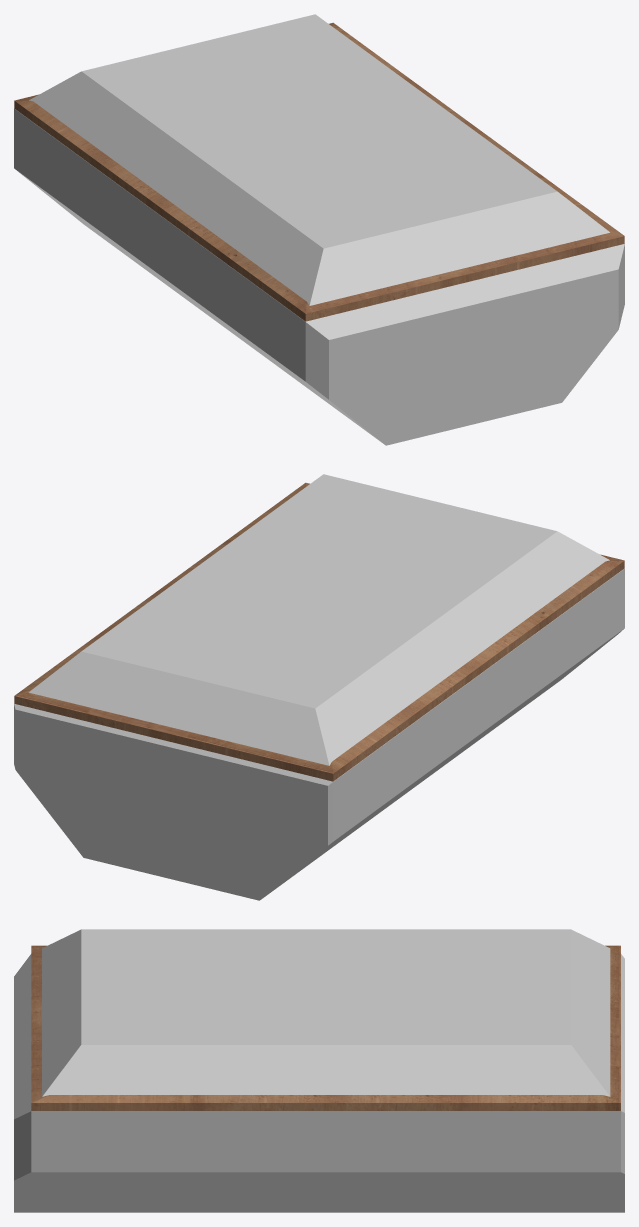
File: SM_HBJ_HG_RoofB.fbx
3 views of the same model, one above another, from view 1: azimuth 30°, elevation 25°; view 2: azimuth 150°, elevation 25°; view 3: azimuth 270°, elevation 25° (orthographic).
Visible parts, largest first — view 1: SM_HBJ_HG_RoofB_ConvexHulls, SM_HBJ_HG_RoofB; view 2: SM_HBJ_HG_RoofB_ConvexHulls, SM_HBJ_HG_RoofB; view 3: SM_HBJ_HG_RoofB_ConvexHulls, SM_HBJ_HG_RoofB.
Boxes of the visible parts, x1,y1,x2,y2 form: SM_HBJ_HG_RoofB_ConvexHulls: (14, 14, 624, 445); SM_HBJ_HG_RoofB: (14, 22, 624, 321); SM_HBJ_HG_RoofB_ConvexHulls: (14, 474, 624, 900); SM_HBJ_HG_RoofB: (14, 482, 624, 781); SM_HBJ_HG_RoofB_ConvexHulls: (14, 929, 624, 1212); SM_HBJ_HG_RoofB: (31, 945, 620, 1110).
Size of the model in its own units: 209 by 343 by 113.
2 materials, 1 textured.
